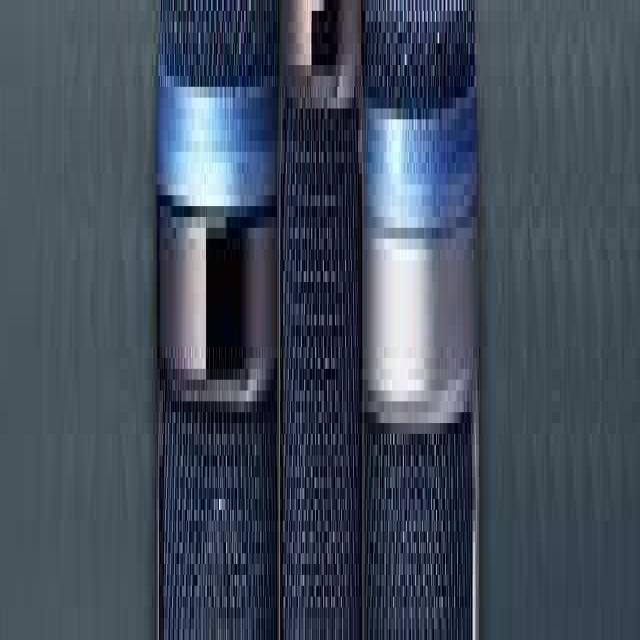microphone: (157, 0, 276, 640), (365, 19, 484, 640), (279, 9, 363, 640)
